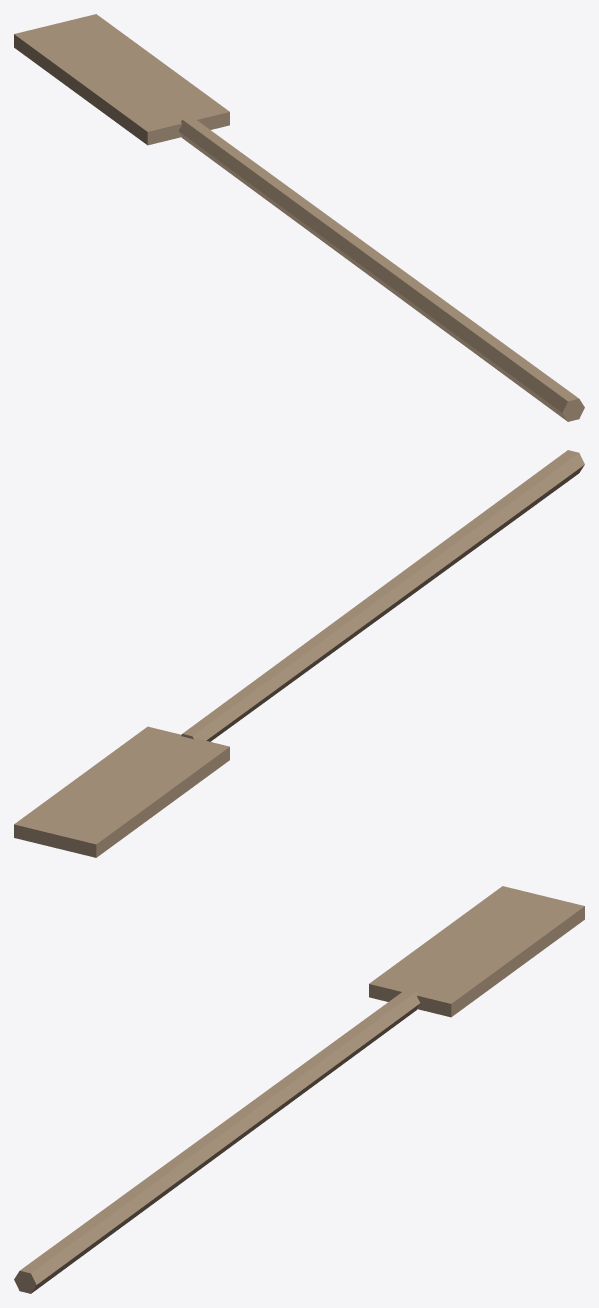
The model's file is remo.glb.
3 renders of one model, top to bottom at view 1: azimuth 30°, elevation 25°; view 2: azimuth 150°, elevation 25°; view 3: azimuth 330°, elevation 25°, orthographic.
Parts seen in each view (by area): view 1: remo; view 2: remo; view 3: remo.
Boxes of the visible parts, <box> form: remo: <box>14,14,584,421</box>; remo: <box>14,450,584,857</box>; remo: <box>14,886,584,1293</box>.
Size of the model in its own units: 0.16 by 0.0381 by 1.75.
